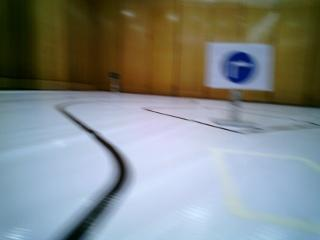right: (208, 43, 273, 92)
